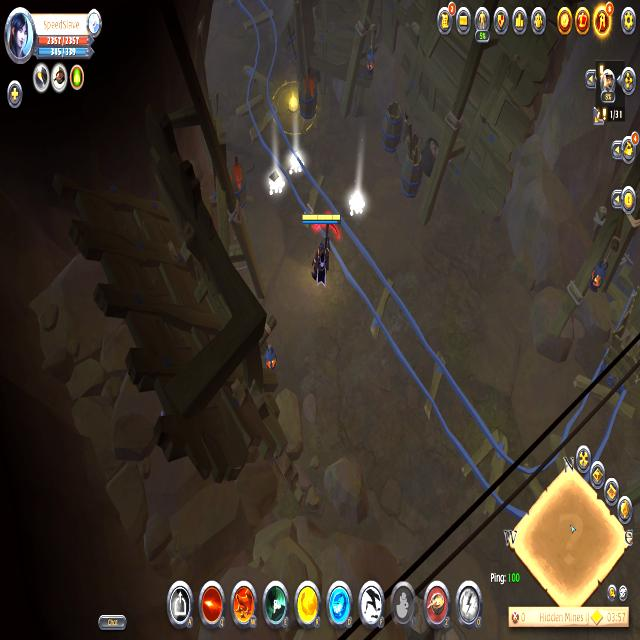red: (300, 208, 342, 292)
stone: (346, 188, 367, 220), (266, 167, 286, 200), (286, 147, 306, 177)
